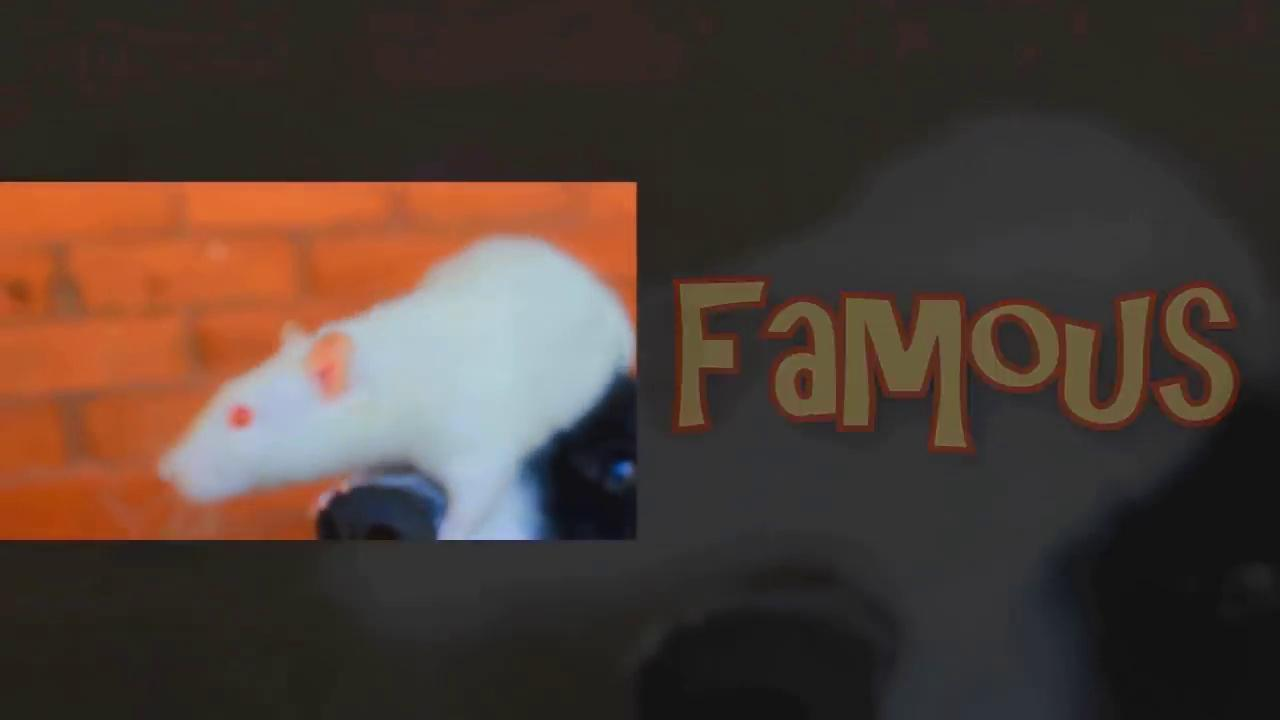rat: (158, 237, 636, 538)
